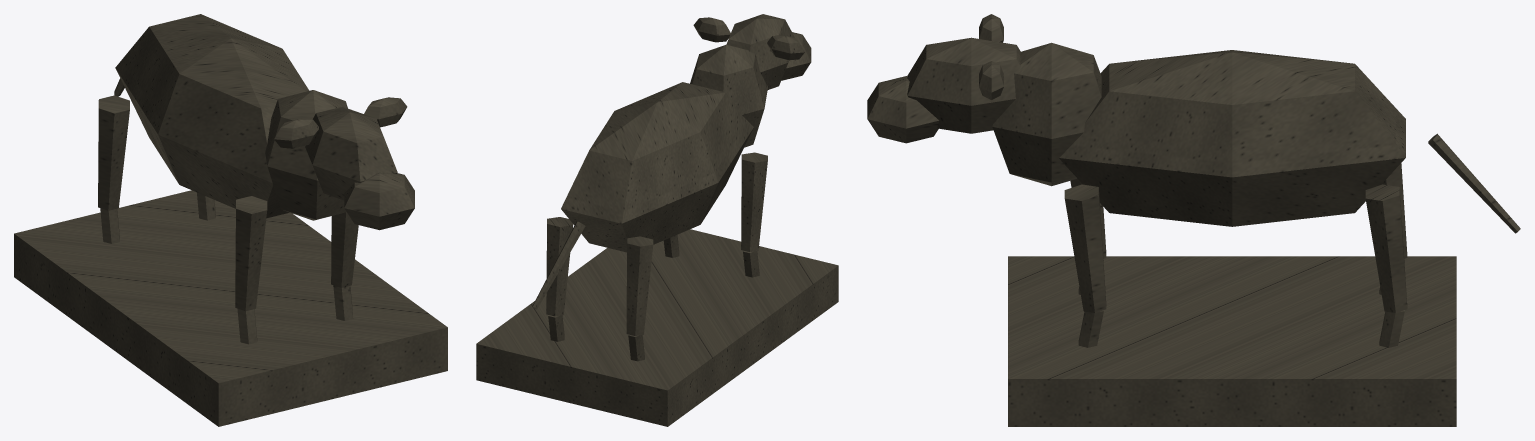
Rendered from PROP-10D1D5456444_lod2.glb.
3 renders of one model, left to right at view 1: azimuth 30°, elevation 25°; view 2: azimuth 150°, elevation 25°; view 3: azimuth 270°, elevation 25°, orthographic. The views are drawn at different scales.
Visible parts, largest first — view 1: statue_plinth.001, animal_torso.001, upper_leg.001, animal_head.001, animal_neck.001, muzzle.001, lower_leg.001, animal_ears.001; view 2: statue_plinth.001, animal_torso.001, upper_leg.001, animal_neck.001, animal_head.001, lower_leg.001, animal_ears.001, tail.001, muzzle.001; view 3: statue_plinth.001, animal_torso.001, animal_neck.001, upper_leg.001, animal_head.001, muzzle.001, lower_leg.001, animal_ears.001, tail.001.
Boxes of the visible parts, bbox=[...] form: statue_plinth.001: bbox=[14, 190, 447, 426]; animal_torso.001: bbox=[115, 14, 309, 218]; upper_leg.001: bbox=[98, 95, 358, 311]; animal_head.001: bbox=[305, 106, 397, 200]; animal_neck.001: bbox=[265, 90, 347, 220]; muzzle.001: bbox=[344, 172, 414, 230]; lower_leg.001: bbox=[100, 192, 353, 344]; animal_ears.001: bbox=[274, 97, 407, 148]; statue_plinth.001: bbox=[476, 229, 838, 426]; animal_torso.001: bbox=[561, 82, 753, 252]; upper_leg.001: bbox=[546, 152, 767, 335]; animal_neck.001: bbox=[690, 44, 767, 147]; animal_head.001: bbox=[726, 14, 794, 89]; lower_leg.001: bbox=[548, 234, 759, 361]; animal_ears.001: bbox=[693, 17, 804, 60]; tail.001: bbox=[532, 221, 585, 309]; muzzle.001: bbox=[781, 32, 811, 80]; statue_plinth.001: bbox=[1008, 256, 1456, 426]; animal_torso.001: bbox=[1059, 50, 1405, 226]; animal_neck.001: bbox=[992, 42, 1101, 186]; upper_leg.001: bbox=[1064, 163, 1407, 312]; animal_head.001: bbox=[907, 37, 1020, 133]; muzzle.001: bbox=[867, 76, 939, 143]; lower_leg.001: bbox=[1078, 259, 1404, 347]; animal_ears.001: bbox=[979, 14, 1003, 99]; tail.001: bbox=[1428, 133, 1520, 233].
Size of the model in its own units: 1.1 by 1.37 by 2.47.
1 material, 1 textured.
